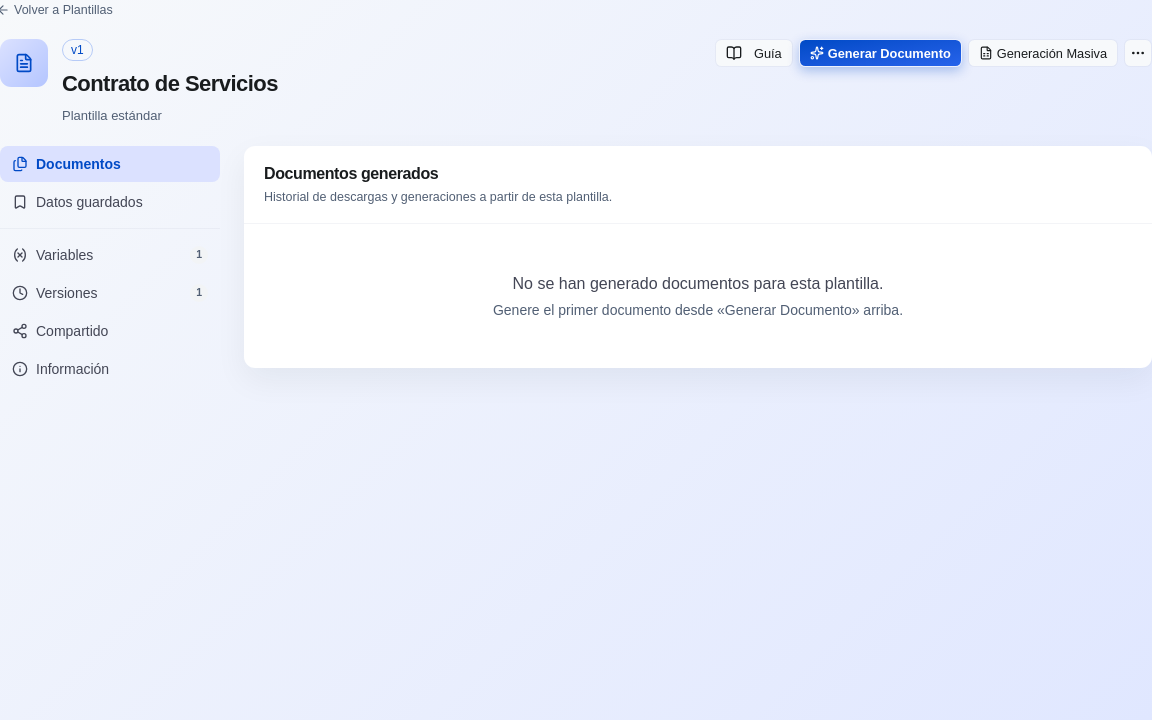
TemplateDetail — action row reorganization › opens the rename dialog from the 'Más acciones' menu
The width and height of the screenshot is (1152, 720).
Expected: the heading "Contrato de Servicios" is shown, [62,67,278,100]
What coordinates should you click on to do the following:
click the button named "más acciones"
I would click on:
 (1138, 53)
Its box is [1124,39,1151,67].
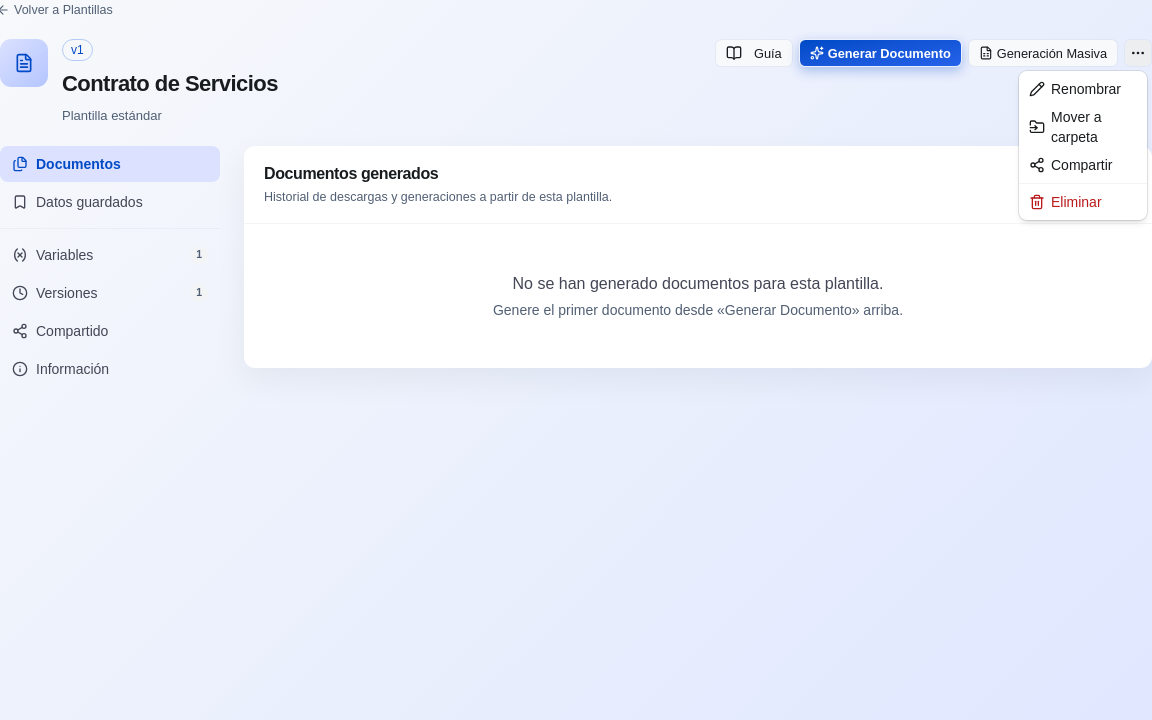
What coordinates should you click on to do the following:
click the menu item "Renombrar"
I would click on:
 (1075, 89)
Its box is [1029,81,1121,97].
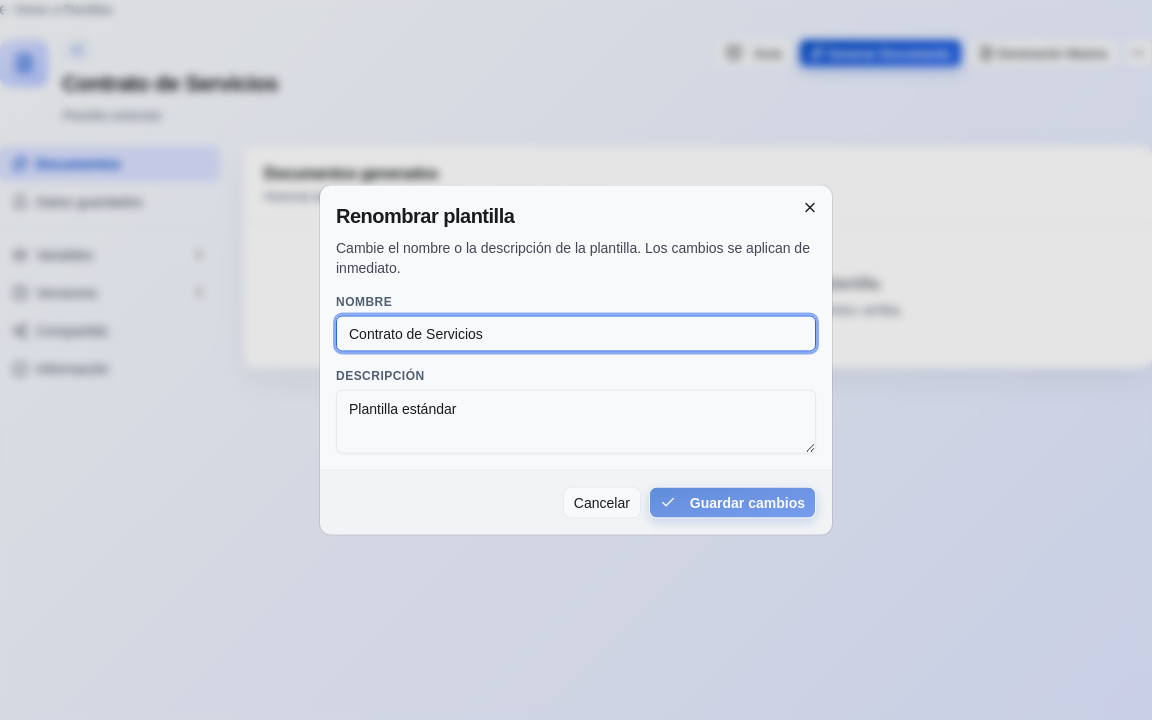
Result: the dialog "Renombrar plantilla" is shown at [320,186,832,534]
